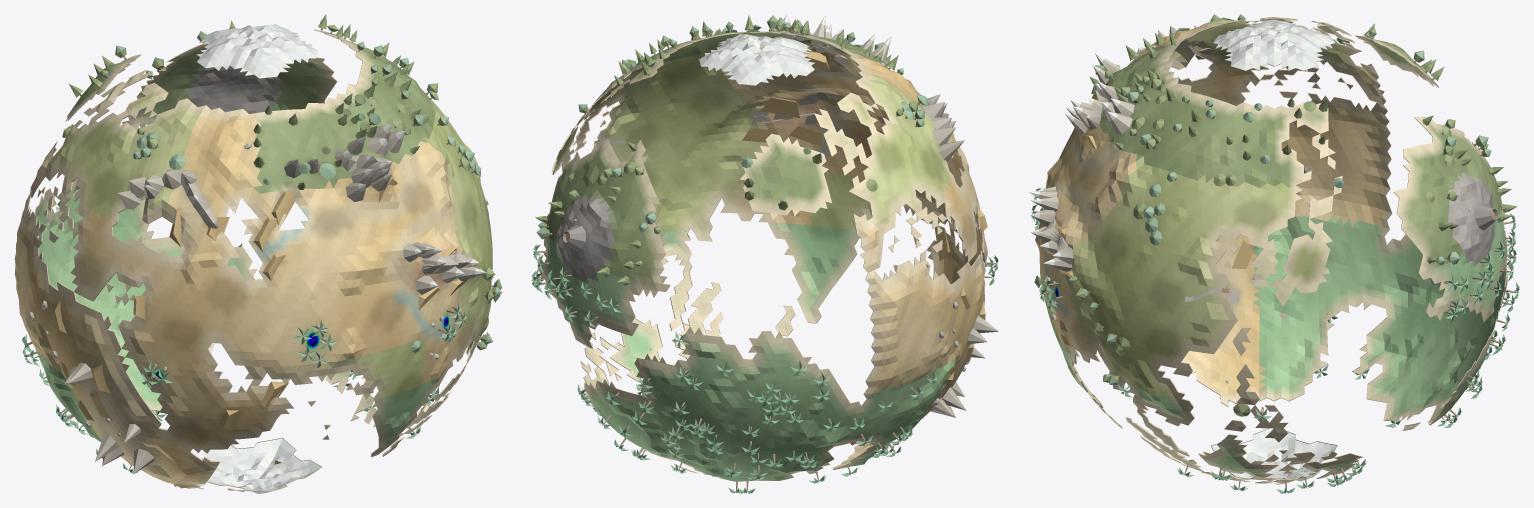
File: terrain.glb
3 views of the same model, side by side, from view 1: azimuth 30°, elevation 25°; view 2: azimuth 150°, elevation 25°; view 3: azimuth 270°, elevation 25° (orthographic). The views are drawn at different scales.
Visible parts, largest first — view 1: spherical_continents_and_biomes, sphere_scenery_stone0, sphere_scenery_desert1, radial_coastal_cliffs, sphere_scenery_pine_tip0, sphere_scenery_leaf0, sphere_scenery_palm0, sphere_scenery_pine0, sphere_scenery_snow0, sphere_scenery_wood0; view 2: spherical_continents_and_biomes, sphere_scenery_palm0, radial_coastal_cliffs, sphere_scenery_stone0, sphere_scenery_pine_tip0, sphere_scenery_desert1, sphere_scenery_leaf0, sphere_scenery_wood0, sphere_scenery_pine0; view 3: spherical_continents_and_biomes, radial_coastal_cliffs, sphere_scenery_pine_tip0, sphere_scenery_stone0, sphere_scenery_palm0, sphere_scenery_leaf0, sphere_scenery_pine0, sphere_scenery_wood0, sphere_scenery_snow0, sphere_scenery_desert1.
Part boxes in pixels (x1,y1,x2,y2): spherical_continents_and_biomes: (14, 24, 492, 493); sphere_scenery_stone0: (29, 75, 477, 486); sphere_scenery_desert1: (55, 178, 467, 431); radial_coastal_cliffs: (27, 26, 475, 492); sphere_scenery_pine_tip0: (62, 20, 501, 350); sphere_scenery_leaf0: (65, 26, 502, 352); sphere_scenery_palm0: (15, 201, 488, 473); sphere_scenery_pine0: (69, 14, 421, 187); sphere_scenery_snow0: (193, 124, 486, 289); sphere_scenery_wood0: (26, 28, 493, 469); spherical_continents_and_biomes: (538, 31, 987, 481); sphere_scenery_palm0: (531, 234, 998, 493); radial_coastal_cliffs: (539, 32, 984, 476); sphere_scenery_stone0: (573, 21, 998, 417); sphere_scenery_pine_tip0: (535, 15, 928, 284); sphere_scenery_desert1: (742, 52, 987, 388); sphere_scenery_leaf0: (536, 17, 928, 238); sphere_scenery_wood0: (534, 27, 995, 491); sphere_scenery_pine0: (542, 15, 898, 285); spherical_continents_and_biomes: (1035, 17, 1507, 484); radial_coastal_cliffs: (1072, 18, 1507, 483); sphere_scenery_pine_tip0: (1038, 14, 1516, 416); sphere_scenery_stone0: (1037, 25, 1471, 383); sphere_scenery_palm0: (1031, 187, 1519, 493); sphere_scenery_leaf0: (1034, 17, 1491, 416); sphere_scenery_pine0: (1089, 23, 1511, 263); sphere_scenery_wood0: (1034, 32, 1516, 489); sphere_scenery_snow0: (1029, 47, 1143, 266); sphere_scenery_desert1: (1046, 93, 1253, 277).
Size of the model in its own units: 23.15 by 23.03 by 23.23.
